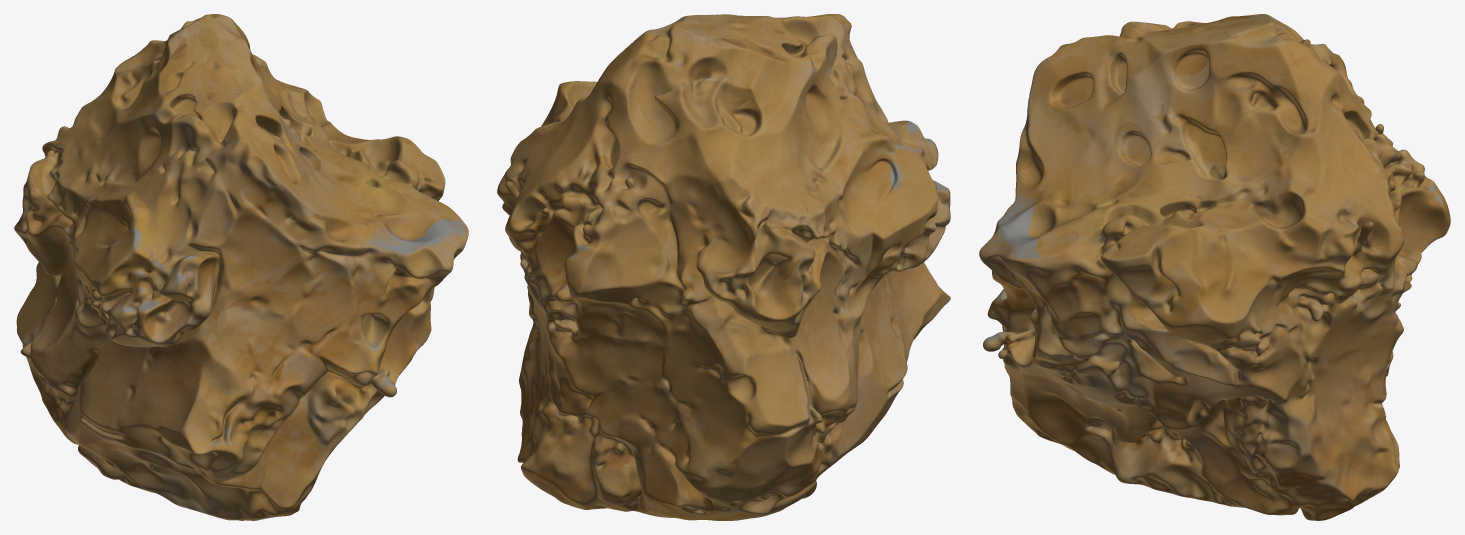
File: ohko-h25.glb
3 views of the same model, side by side, from view 1: azimuth 30°, elevation 25°; view 2: azimuth 150°, elevation 25°; view 3: azimuth 270°, elevation 25° (orthographic). The views are drawn at different scales.
Parts seen in each view (by area): view 1: tripo_node_c08b8197-4ddd-437a-baac-70c4f484e377; view 2: tripo_node_c08b8197-4ddd-437a-baac-70c4f484e377; view 3: tripo_node_c08b8197-4ddd-437a-baac-70c4f484e377.
Part boxes in pixels (<box>): tripo_node_c08b8197-4ddd-437a-baac-70c4f484e377: <box>14,14,468,520</box>; tripo_node_c08b8197-4ddd-437a-baac-70c4f484e377: <box>497,14,950,520</box>; tripo_node_c08b8197-4ddd-437a-baac-70c4f484e377: <box>979,14,1450,520</box>.
Bounding box in the file's own units: 0.8223 × 1 × 0.9067.
1 material, 1 textured.
